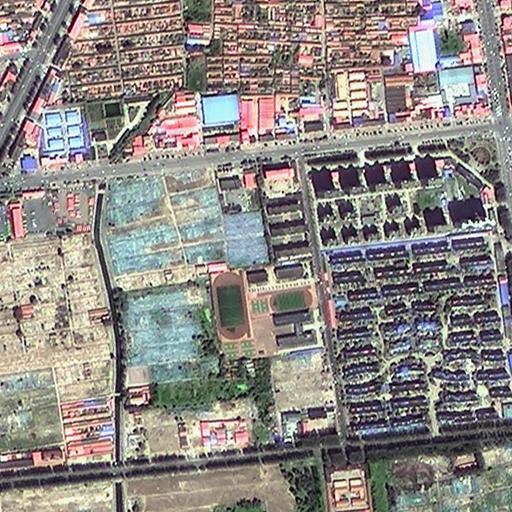school: (203, 258, 323, 359)
